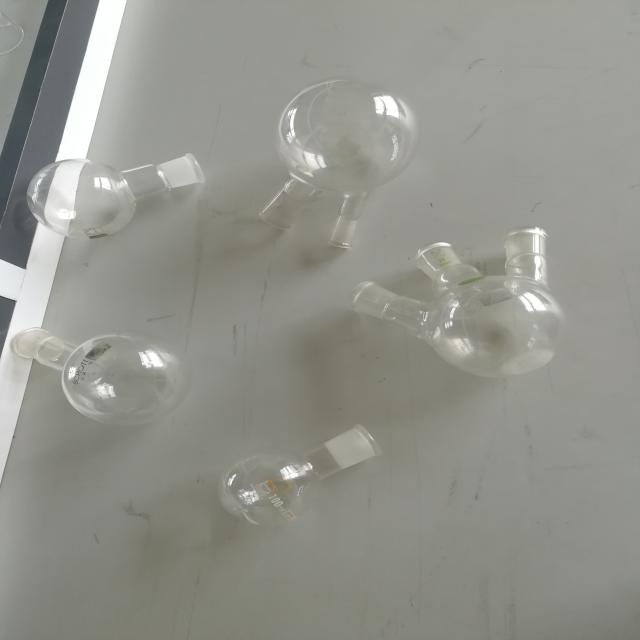Round_Bottom_Flask_Borosilicate_Glass_1_Neck: (200, 408, 418, 550), (3, 121, 218, 255), (0, 312, 205, 442)
Round_Bottom_Flask_Borosilicate_Glass_2_Neck: (244, 60, 438, 270)
Round_Bottom_Flask_Borosilicate_Glass_3_Neck: (334, 218, 596, 400)
